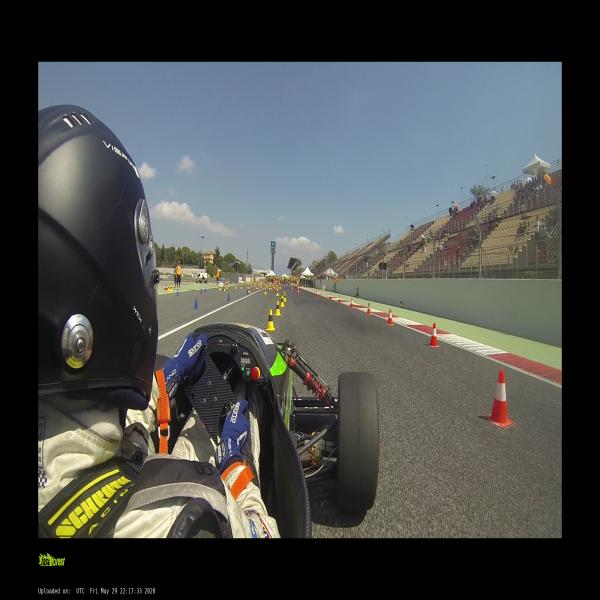blue_cone: (194, 298, 198, 310), (227, 293, 230, 302), (176, 290, 179, 296), (200, 288, 202, 294), (247, 289, 249, 295), (205, 288, 206, 292)
orange_cone: (485, 369, 513, 428), (428, 323, 440, 347), (386, 310, 394, 326), (366, 303, 371, 315), (350, 298, 353, 308), (296, 288, 300, 294), (338, 296, 341, 303), (329, 294, 332, 300), (316, 291, 318, 297), (164, 285, 166, 290), (268, 287, 270, 292), (291, 287, 293, 291), (260, 286, 262, 290), (167, 286, 168, 290), (252, 286, 253, 290), (274, 286, 275, 290), (256, 287, 257, 291)
yellow_cone: (265, 310, 275, 330), (274, 301, 282, 315), (280, 296, 284, 307), (282, 293, 286, 301), (282, 291, 286, 299), (399, 300, 402, 307), (170, 285, 172, 291), (276, 290, 278, 296), (264, 289, 266, 294), (219, 285, 221, 290), (223, 286, 225, 291), (240, 285, 242, 289), (249, 288, 250, 292), (226, 285, 227, 289), (235, 285, 236, 289)
